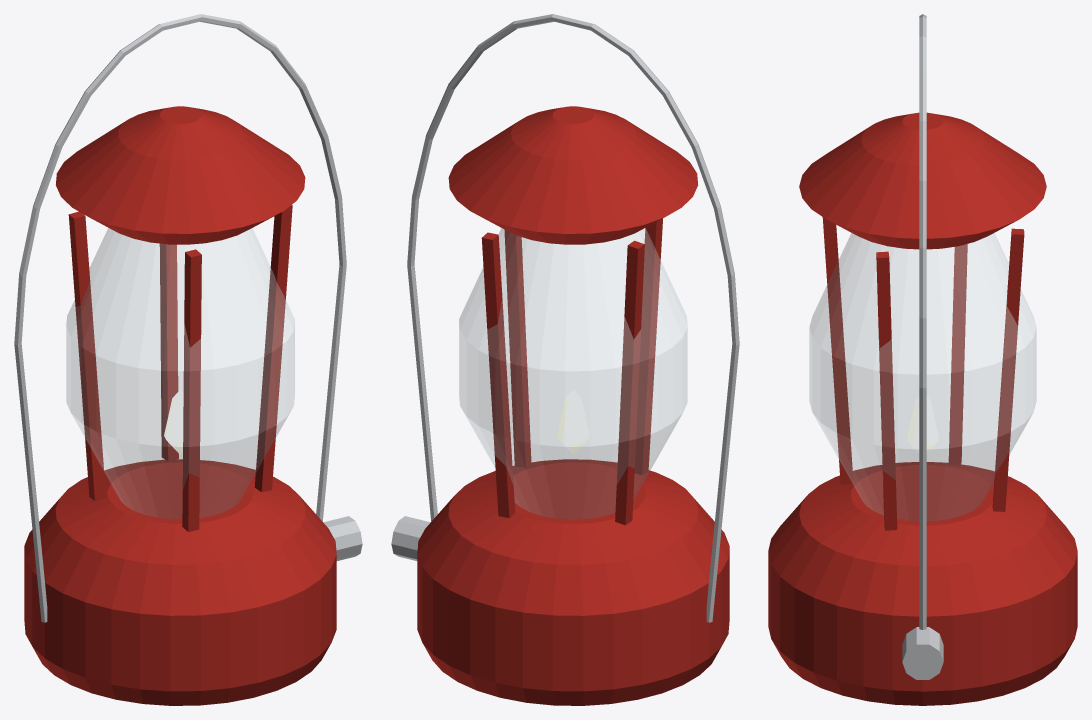
File: lampiao.glb
3 views of the same model, side by side, from view 1: azimuth 30°, elevation 25°; view 2: azimuth 150°, elevation 25°; view 3: azimuth 270°, elevation 25° (orthographic).
Parts seen in each view (by area): view 1: lampiao_tinta_vermelha, lampiao_vidro_prateleira, lampiao_aco, lampiao_lamp_glass; view 2: lampiao_tinta_vermelha, lampiao_vidro_prateleira, lampiao_aco, lampiao_lamp_glass; view 3: lampiao_tinta_vermelha, lampiao_vidro_prateleira, lampiao_aco, lampiao_lamp_glass.
Part boxes in pixels (box(x1,y1,x2,y2)): lampiao_tinta_vermelha: box(24, 106, 336, 705); lampiao_vidro_prateleira: box(66, 228, 294, 519); lampiao_aco: box(14, 14, 362, 622); lampiao_lamp_glass: box(164, 389, 183, 454); lampiao_tinta_vermelha: box(417, 106, 729, 705); lampiao_vidro_prateleira: box(459, 228, 687, 519); lampiao_aco: box(391, 14, 739, 622); lampiao_lamp_glass: box(557, 389, 589, 454); lampiao_tinta_vermelha: box(768, 112, 1077, 705); lampiao_vidro_prateleira: box(809, 233, 1036, 520); lampiao_aco: box(902, 14, 943, 679); lampiao_lamp_glass: box(907, 397, 938, 453).
Size of the model in its own units: 0.187 by 0.3309 by 0.15.
